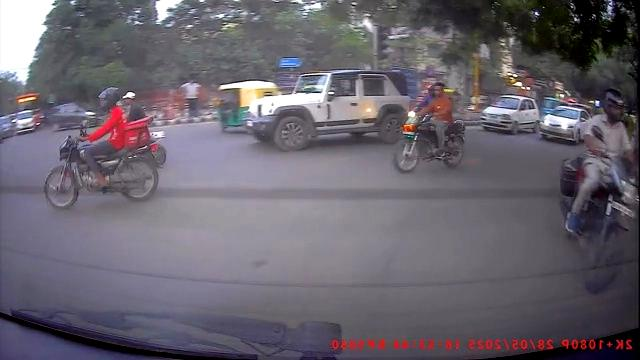motorcycle_with_helmet: (555, 86, 639, 296), (42, 85, 155, 212)
motorcycle_without_helmet: (390, 80, 469, 176)
